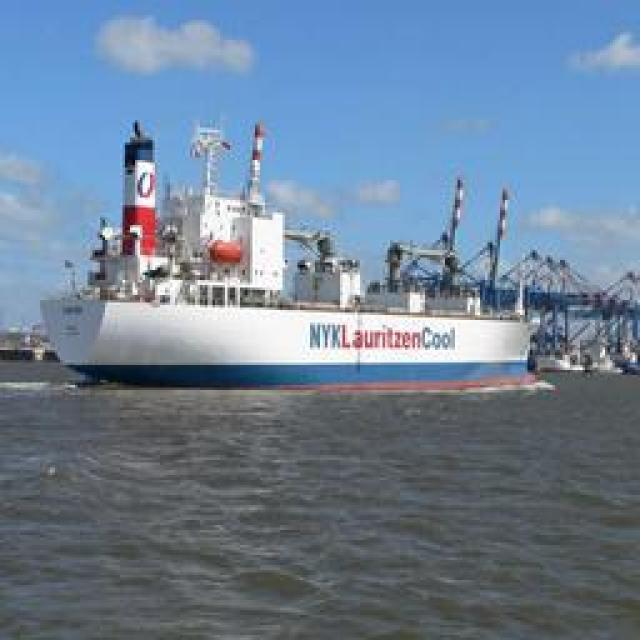CIV_Ship: (38, 111, 538, 386)
